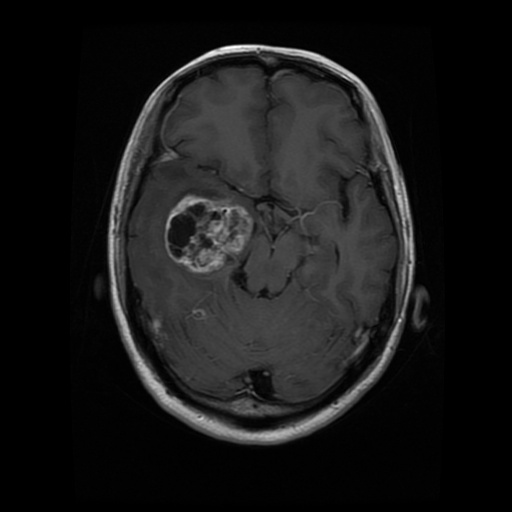glioma: (164, 188, 253, 274)
